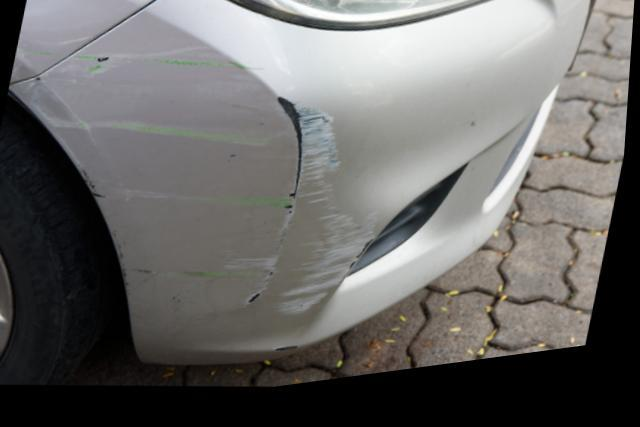scratch: (10, 46, 384, 326), (10, 31, 82, 86)
